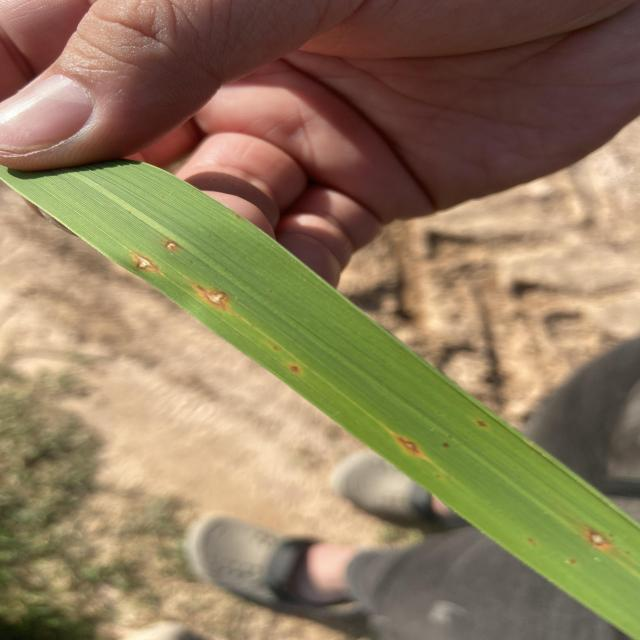Dao on: (196, 284, 233, 312), (396, 436, 423, 459), (588, 528, 614, 550), (135, 254, 159, 274), (164, 241, 176, 250), (288, 365, 300, 373)
